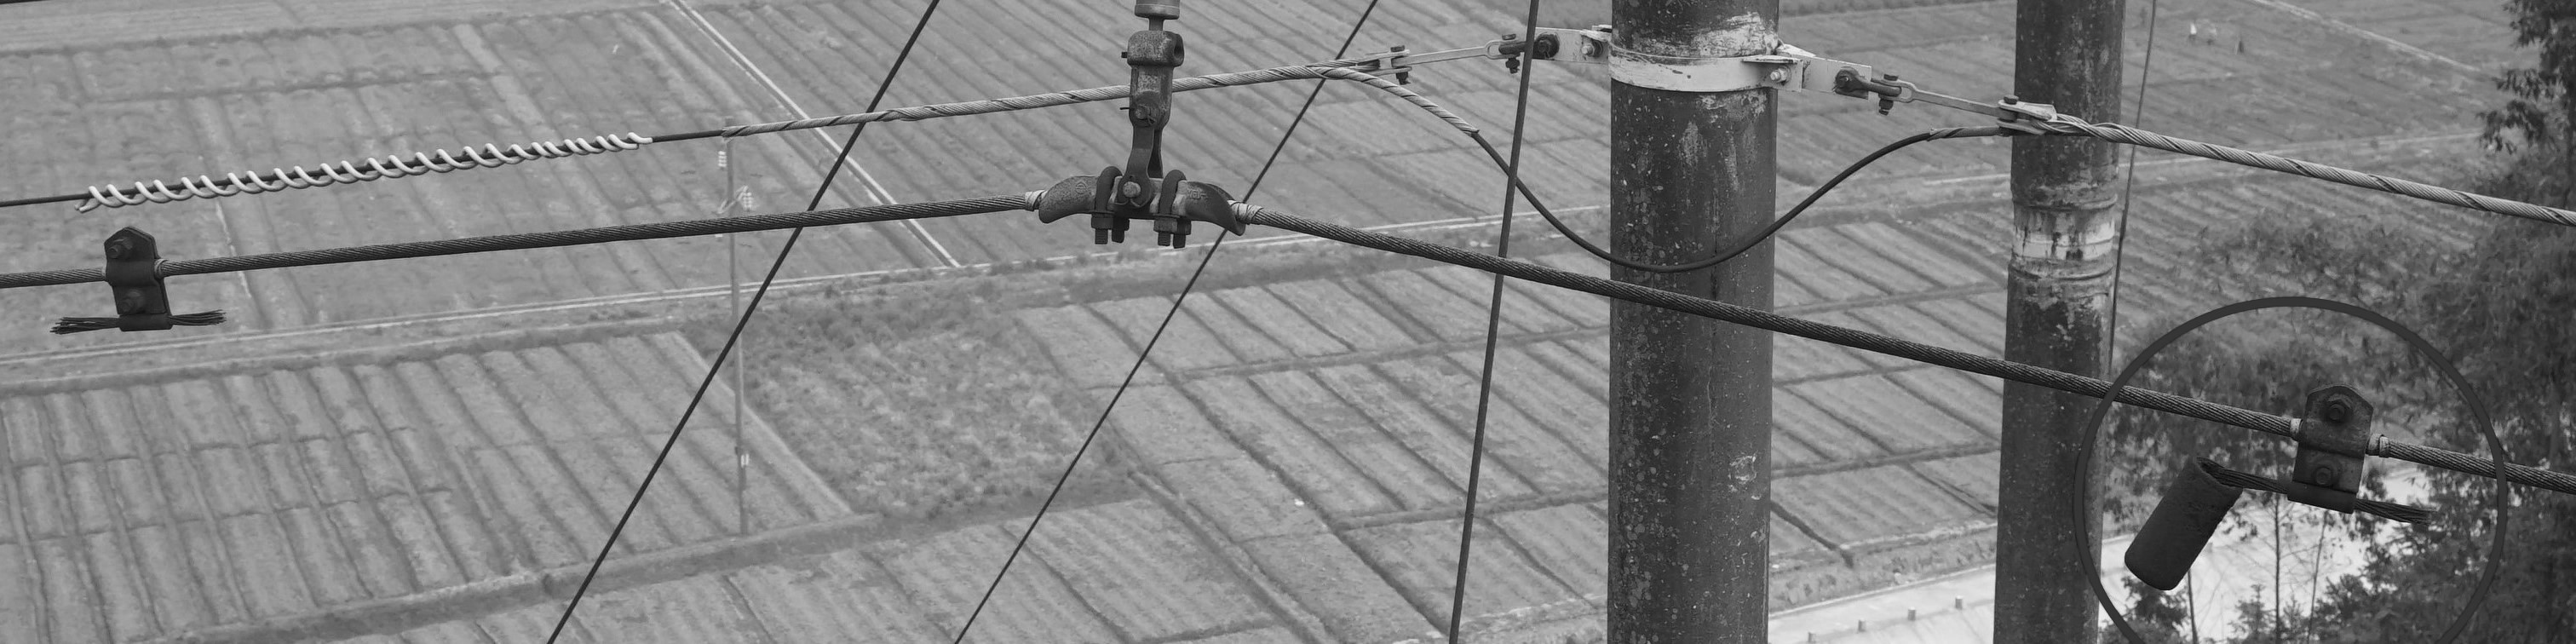Damage of shockproof hammer: (2113, 361, 2481, 605), (30, 202, 269, 378)
